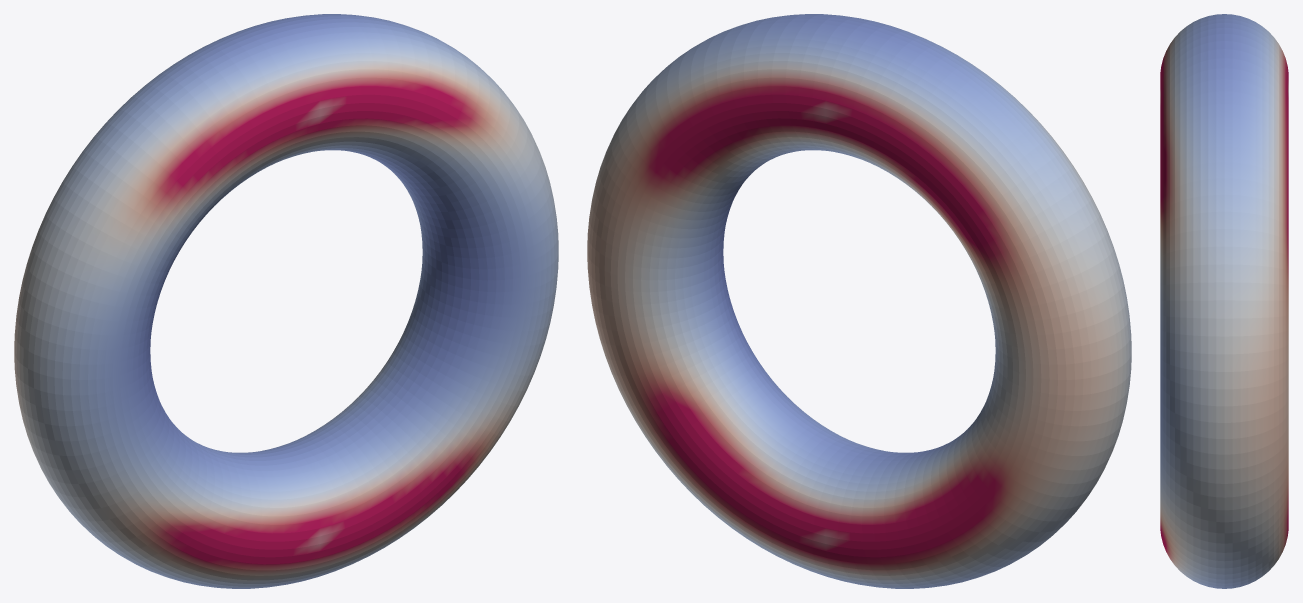
3 renders of one model, left to right at view 1: azimuth 30°, elevation 25°; view 2: azimuth 150°, elevation 25°; view 3: azimuth 270°, elevation 25°, orthographic. The views are drawn at different scales.
Parts seen in each view (by area): view 1: world; view 2: world; view 3: world.
Part boxes in pixels (bbox=[...]): world: bbox=[14, 14, 558, 588]; world: bbox=[587, 14, 1131, 588]; world: bbox=[1160, 14, 1288, 588].
Bounding box in the file's own units: 23.2 × 23.2 × 5.19.
